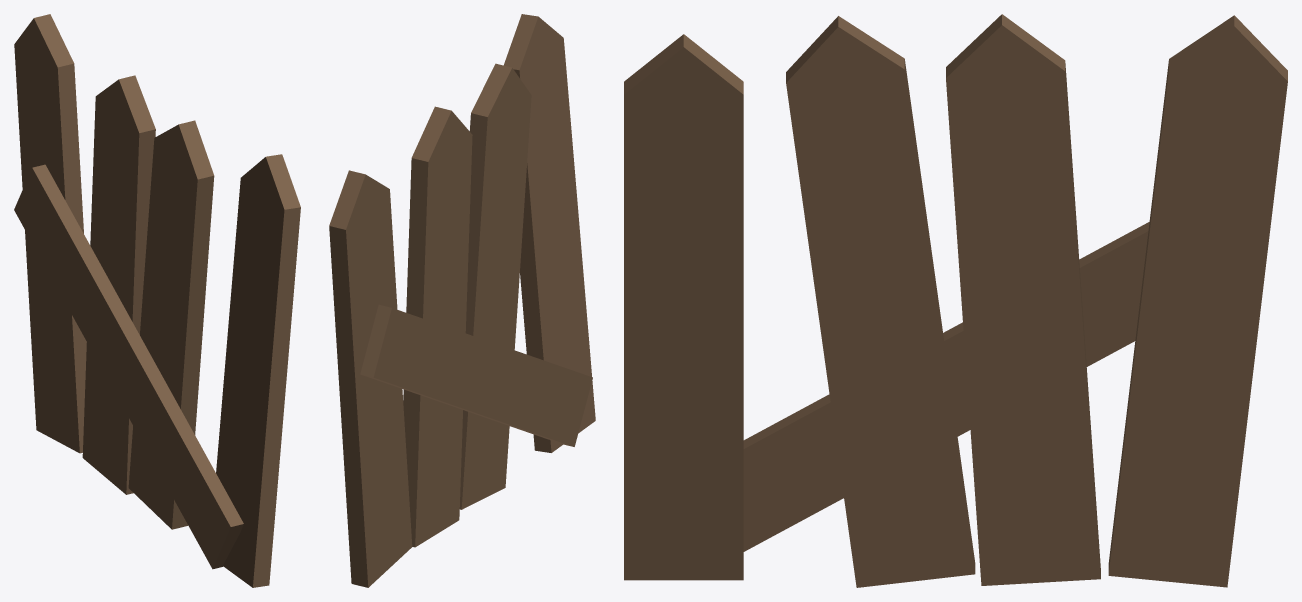
File: picket_fence_short_broken_A.gltf
3 views of the same model, side by side, from view 1: azimuth 30°, elevation 25°; view 2: azimuth 150°, elevation 25°; view 3: azimuth 270°, elevation 25° (orthographic). The views are drawn at different scales.
Visible parts, largest first — view 1: Plank4, CrossBoard, Plank1, Plank5, Plank2; view 2: Plank5, Plank2, Plank4, Plank1, CrossBoard; view 3: Plank1, Plank5, Plank2, Plank4, CrossBoard.
Part boxes in pixels (x1,y1,x2,y2): Plank4: (216, 154, 300, 587); CrossBoard: (14, 164, 243, 569); Plank1: (128, 120, 214, 529); Plank5: (14, 14, 86, 453); Plank2: (82, 75, 155, 494); Plank5: (329, 170, 412, 587); Plank2: (403, 106, 472, 547); Plank4: (503, 14, 595, 452); Plank1: (459, 63, 531, 509); CrossBoard: (360, 304, 592, 446); Plank1: (786, 16, 975, 587); Plank5: (1108, 15, 1287, 587); Plank2: (946, 14, 1100, 585); Plank4: (624, 34, 743, 580); CrossBoard: (743, 222, 1149, 551).
Size of the model in its own units: 0.3429 by 2.21 by 2.37.
